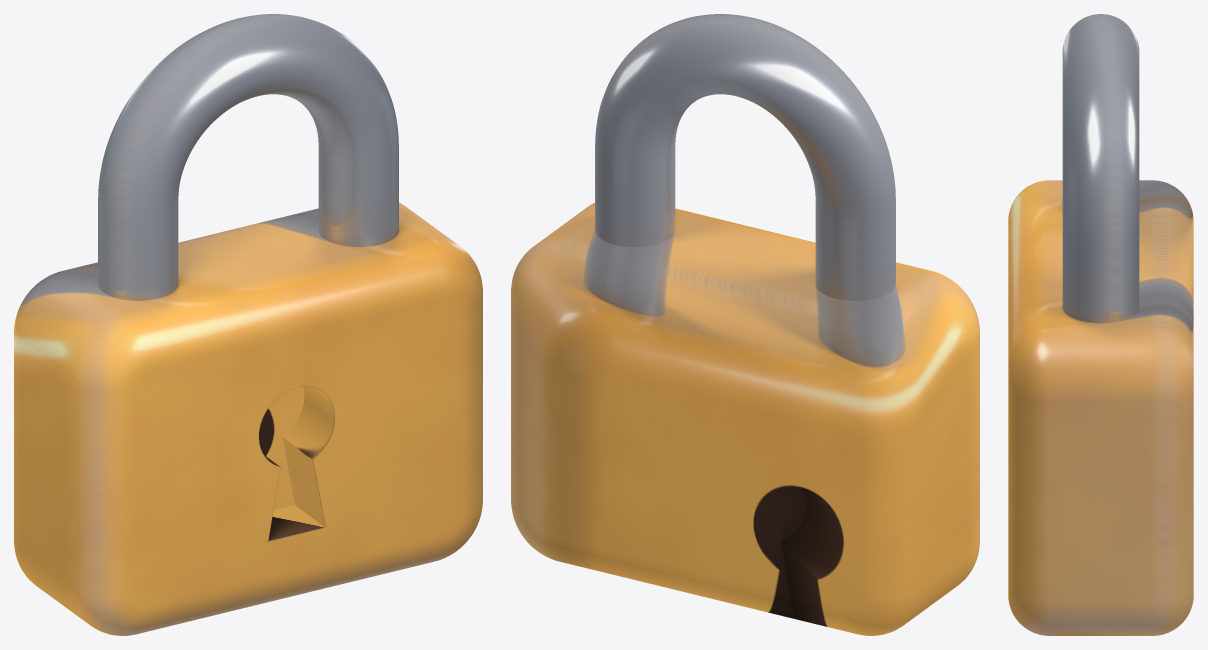
The model's file is Item_Lock.glb.
3 views of the same model, side by side, from view 1: azimuth 30°, elevation 25°; view 2: azimuth 150°, elevation 25°; view 3: azimuth 270°, elevation 25° (orthographic). The views are drawn at different scales.
Visible parts, largest first — view 1: IL_Body, IL_Shackle; view 2: IL_Body, IL_Shackle; view 3: IL_Body, IL_Shackle.
Part boxes in pixels (bbox=[...]): IL_Body: bbox=[14, 202, 482, 635]; IL_Shackle: bbox=[98, 14, 398, 300]; IL_Body: bbox=[511, 202, 979, 635]; IL_Shackle: bbox=[595, 14, 895, 300]; IL_Body: bbox=[1008, 180, 1193, 635]; IL_Shackle: bbox=[1062, 14, 1139, 323].
Bounding box in the file's own units: 1.3 × 1.71 × 0.54.
Materials: 1 (1 with a texture image).
